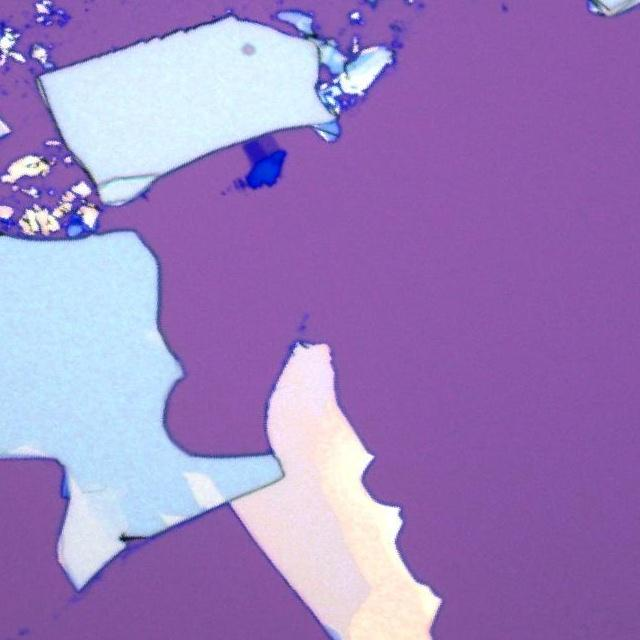monolayer-eWW4: (258, 134, 278, 156)
